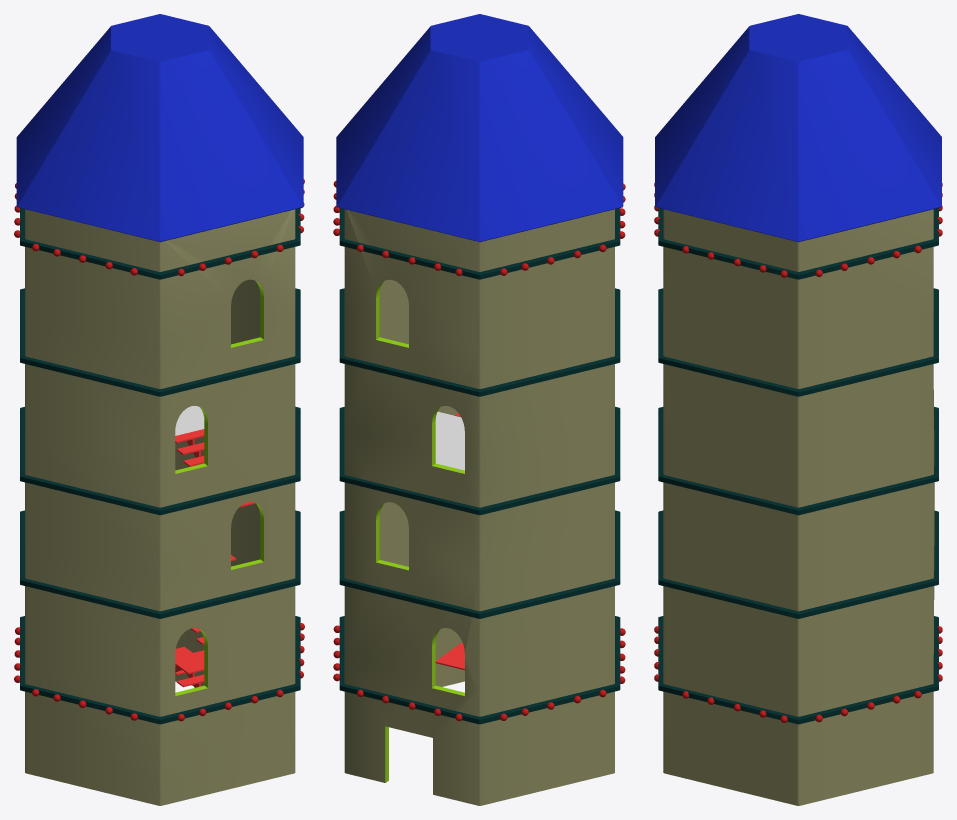
Rendered from nowaWieza.FBX.
3 renders of one model, left to right at view 1: azimuth 30°, elevation 25°; view 2: azimuth 150°, elevation 25°; view 3: azimuth 270°, elevation 25°, orthographic.
Parts seen in each view (by area): view 1: Cylinder001, Cone001, Box003, Box001, Box004, Box, Box002, USchody003, USchody002, Cylinder003; view 2: Cylinder001, Cone001, Box003, Box001, Box004, Box, Box002, Cylinder003; view 3: Cylinder001, Cone001, Box003, Box004, Box001, Box, Box002.
Boxes of the visible parts, box(x1,y1,x2,y2) form: Cylinder001: box(25, 209, 295, 805); Cone001: box(16, 14, 303, 242); Box003: box(20, 288, 300, 396); Box001: box(20, 510, 300, 618); Box004: box(20, 406, 300, 515); Box: box(20, 616, 300, 724); Box002: box(20, 208, 300, 279); USchody003: box(175, 429, 255, 507); USchody002: box(175, 628, 204, 674); Cylinder003: box(175, 406, 204, 435); Cylinder001: box(344, 209, 614, 805); Cone001: box(336, 14, 623, 241); Box003: box(339, 288, 620, 396); Box001: box(339, 510, 620, 618); Box004: box(339, 406, 620, 515); Box: box(339, 616, 620, 724); Box002: box(339, 208, 620, 279); Cylinder003: box(435, 411, 464, 470); Cylinder001: box(663, 209, 934, 805); Cone001: box(655, 14, 941, 242); Box003: box(658, 288, 938, 396); Box004: box(658, 407, 938, 515); Box001: box(658, 510, 938, 618); Box: box(658, 616, 938, 724); Box002: box(658, 208, 938, 279).
Bounding box in the file's own units: 1738 × 4072 × 1517.
